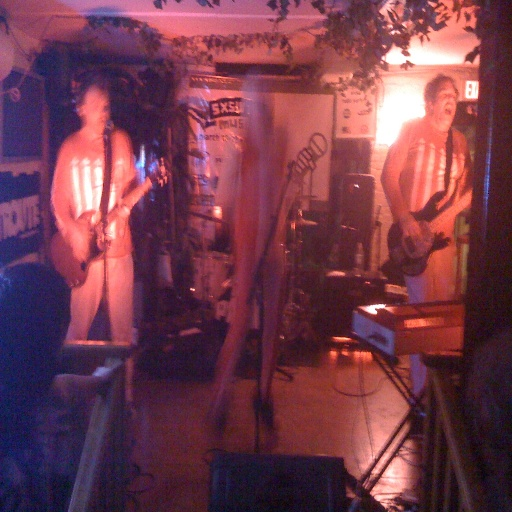hand: (66, 221, 88, 258), (91, 364, 112, 389), (399, 212, 419, 235), (114, 204, 132, 217)
